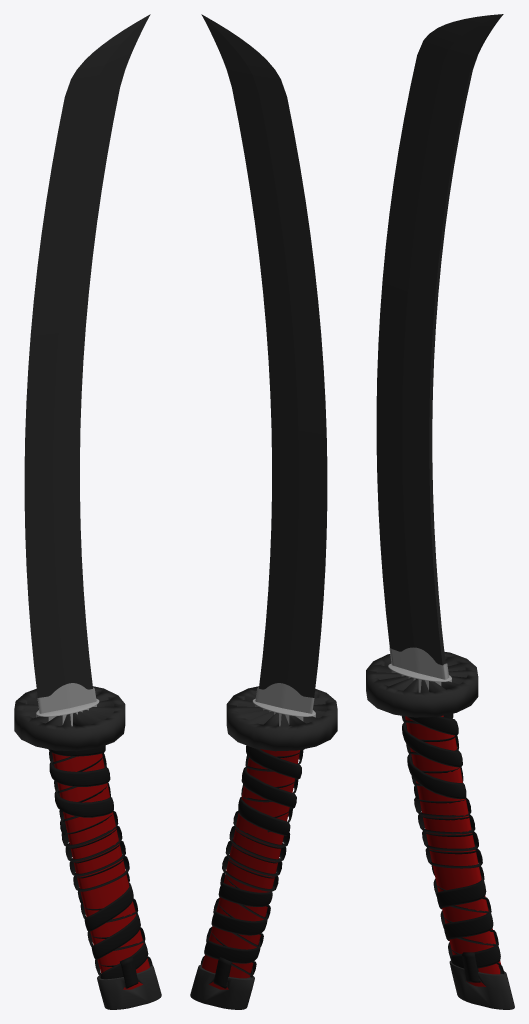
Rendered from katana-v2.fbx.
3 views of the same model, side by side, from view 1: azimuth 30°, elevation 25°; view 2: azimuth 150°, elevation 25°; view 3: azimuth 330°, elevation 25° (orthographic).
Parts seen in each view (by area): view 1: Blade, handle, Adorno, wrappings, wrappings7, Pommel, Ferrule 2, wrappings6, wrappings2, ferrule1, wrappings8, wrappings5 (+3 smaller); view 2: Blade, handle, Adorno, wrappings, wrappings7, Pommel, Ferrule 2, wrappings6, wrappings2, ferrule1, wrappings3, wrappings5 (+2 smaller); view 3: Blade, handle, Adorno, wrappings, wrappings7, Pommel, Ferrule 2, wrappings6, ferrule1, wrappings2, wrappings5, wrappings8 (+3 smaller).
Boxes of the visible parts, left/top/right/bottom form: Blade: left=24, top=14, right=150, bottom=697; handle: left=52, top=752, right=149, bottom=989; Adorno: left=14, top=686, right=125, bottom=751; wrappings: left=48, top=745, right=113, bottom=835; wrappings7: left=77, top=882, right=148, bottom=979; Pommel: left=97, top=965, right=161, bottom=1009; Ferrule 2: left=37, top=683, right=96, bottom=713; wrappings6: left=80, top=872, right=152, bottom=975; wrappings2: left=49, top=751, right=110, bottom=822; ferrule1: left=36, top=698, right=99, bottom=726; wrappings8: left=73, top=856, right=129, bottom=891; wrappings5: left=69, top=840, right=125, bottom=876; Blade: left=201, top=14, right=327, bottom=697; handle: left=202, top=749, right=300, bottom=989; Adorno: left=226, top=686, right=337, bottom=751; wrappings: left=238, top=745, right=304, bottom=835; wrappings7: left=204, top=882, right=272, bottom=977; Pommel: left=190, top=964, right=254, bottom=1009; Ferrule 2: left=255, top=683, right=314, bottom=713; wrappings6: left=200, top=872, right=270, bottom=975; wrappings2: left=241, top=750, right=303, bottom=832; ferrule1: left=252, top=698, right=315, bottom=726; wrappings3: left=229, top=825, right=286, bottom=861; wrappings5: left=225, top=840, right=282, bottom=876; Blade: left=376, top=14, right=503, bottom=665; handle: left=405, top=715, right=501, bottom=986; Adorno: left=366, top=651, right=478, bottom=717; wrappings: left=402, top=716, right=466, bottom=799; wrappings7: left=431, top=865, right=500, bottom=968; Pommel: left=449, top=960, right=514, bottom=1009; Ferrule 2: left=389, top=647, right=449, bottom=679; wrappings6: left=433, top=866, right=504, bottom=973; ferrule1: left=388, top=663, right=451, bottom=692; wrappings2: left=401, top=713, right=463, bottom=786; wrappings5: left=422, top=831, right=478, bottom=851; wrappings8: left=425, top=847, right=482, bottom=868.
Size of the model in its own units: 16.76 by 113 by 11.62.
